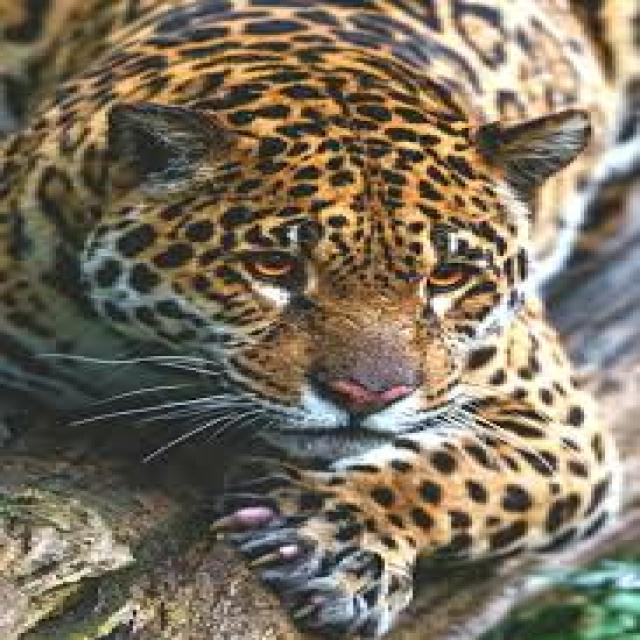Jaguar: (10, 0, 640, 624)
